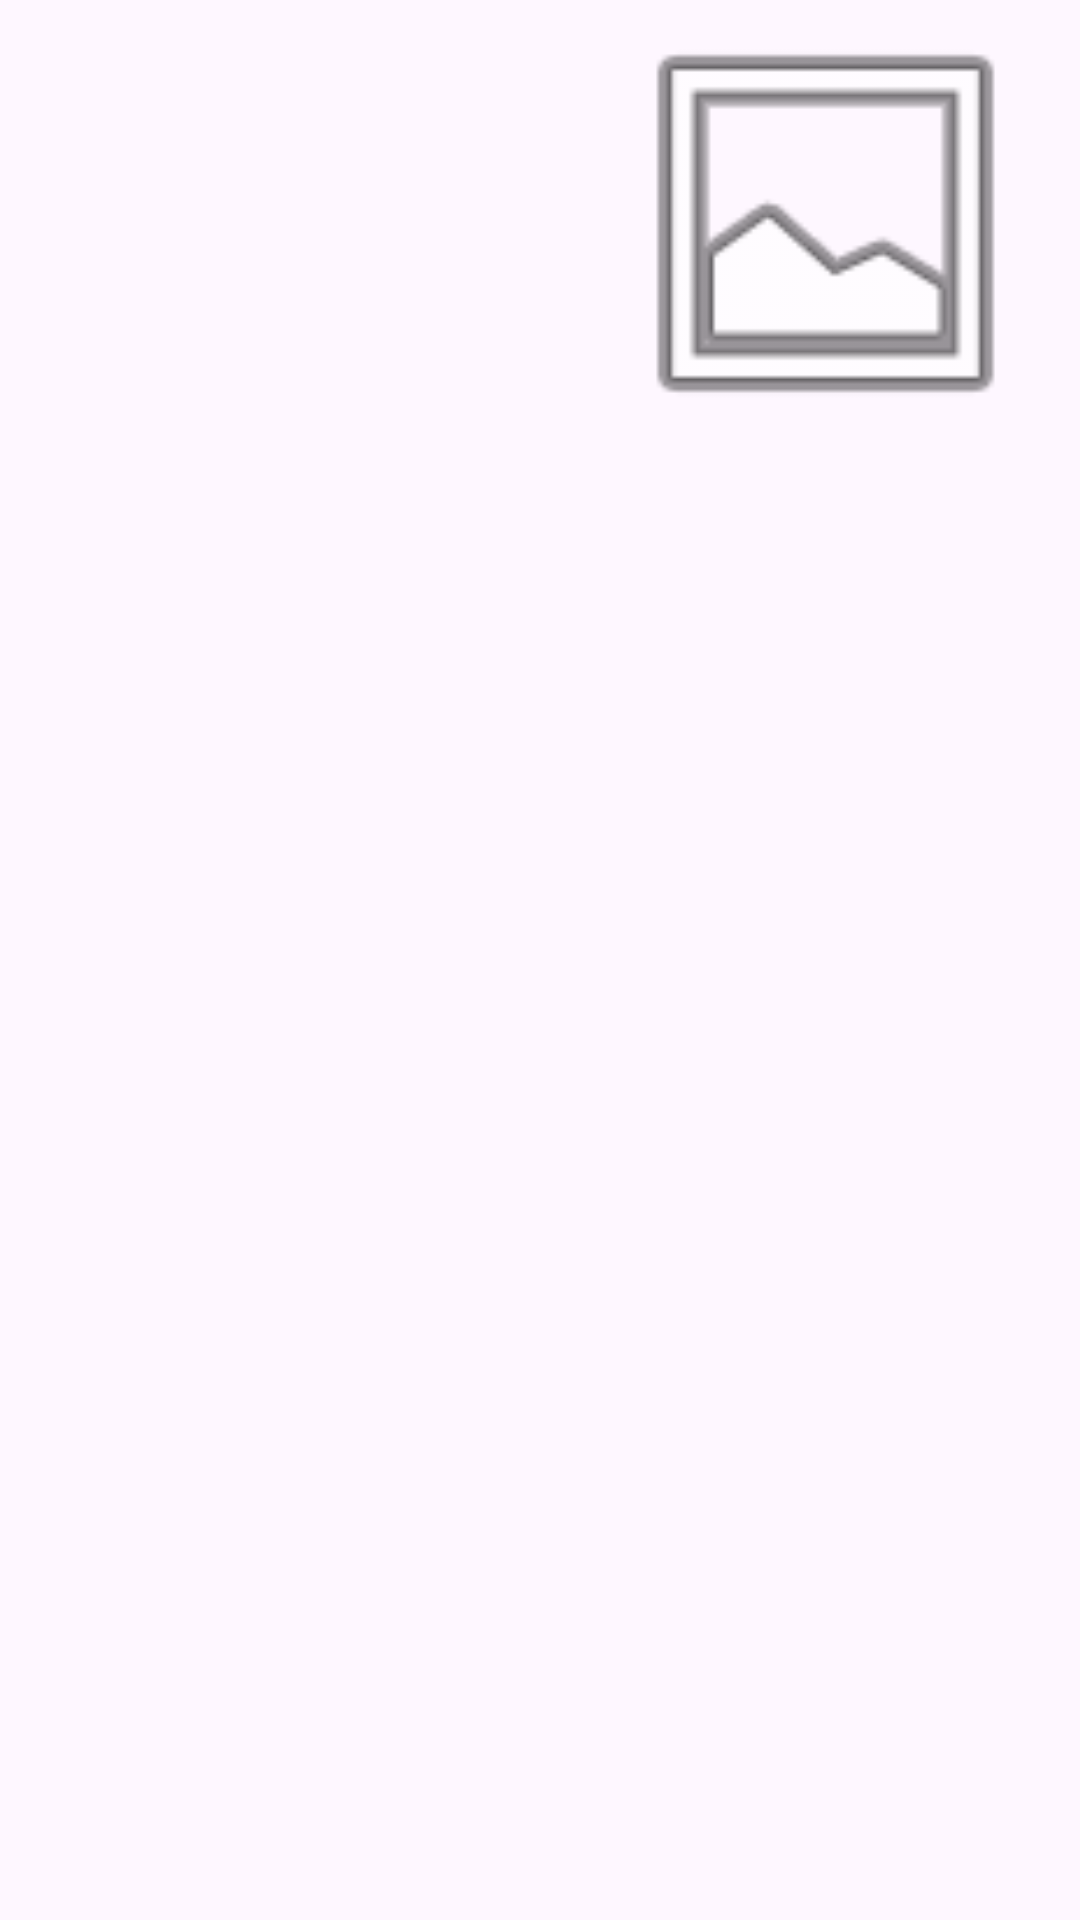

Point at icon controls on the screen. Image size 1080 × 1920, points as point (x, y).
gallery: point (825, 223)
